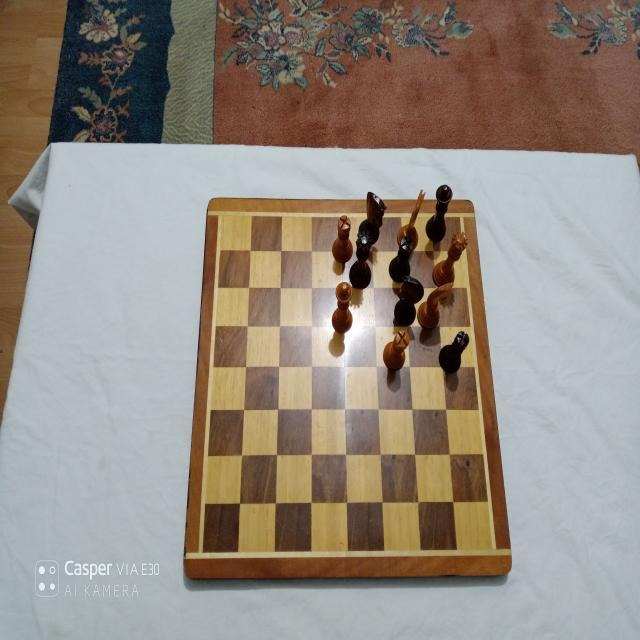black-king: (425, 183, 453, 241)
black-knight: (357, 191, 387, 245), (393, 274, 424, 325)
black-queen: (348, 230, 371, 290)
black-rook: (438, 330, 470, 373), (388, 235, 414, 283)
white-king: (330, 280, 353, 332)
white-knight: (397, 188, 426, 251), (417, 281, 454, 329)
white-queen: (431, 229, 468, 287)
white-rook: (382, 329, 410, 370), (331, 214, 353, 262)
